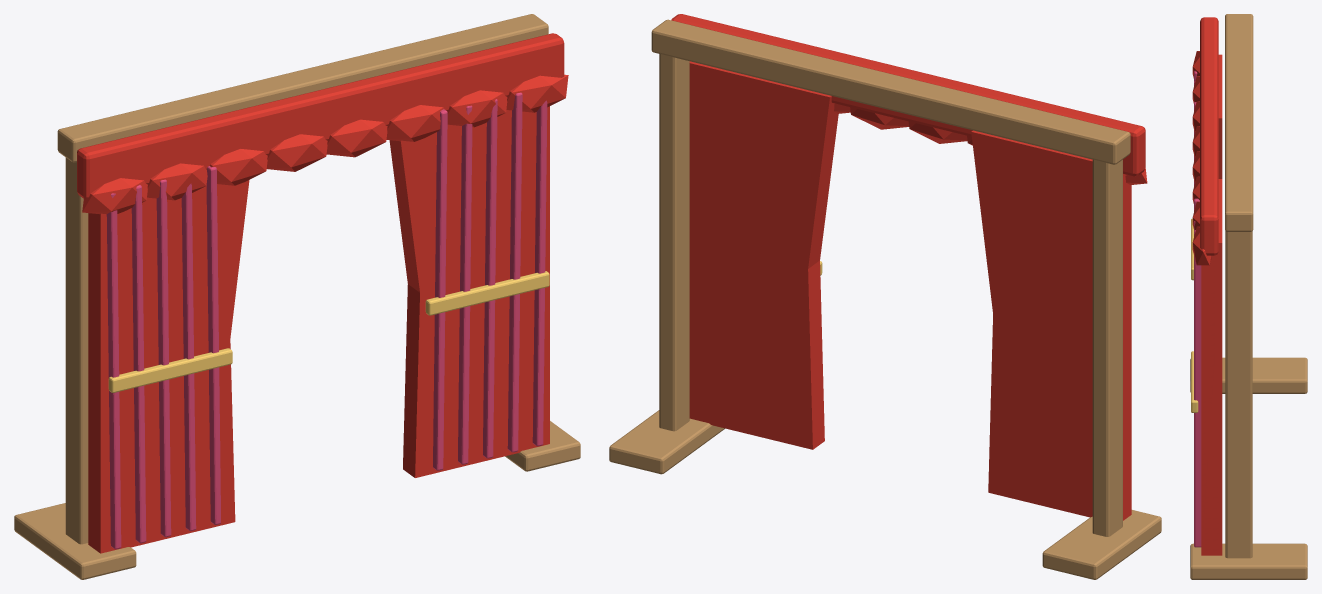
Rendered from S076_theater_curtain.glb.
The picture shows the model from 3 angles, left to right: view 1: azimuth 30°, elevation 25°; view 2: azimuth 150°, elevation 25°; view 3: azimuth 270°, elevation 25°; orthographic projection. The views are drawn at different scales.
Parts seen in each view (by area): view 1: foam_curtain_panel, foam_curtain_panel.001, valance_header, portal_header, curtain_frame_post, stage_portal_foot, curtain_fold.008, curtain_fold, curtain_fold.005, curtain_fold.002, curtain_fold.003, curtain_fold.007 (+15 smaller); view 2: foam_curtain_panel.001, foam_curtain_panel, portal_header, curtain_frame_post, curtain_frame_post.001, valance_header, stage_portal_foot, stage_portal_foot.001; view 3: curtain_frame_post.001, foam_curtain_panel.001, portal_header, valance_header, stage_portal_foot.001, stage_portal_foot, curtain_fold.009, foam_curtain_panel, valance_scallop.007, curtain_tie.001, valance_scallop.002, valance_scallop.003 (+1 smaller).
Part boxes in pixels (x1,y1,x2,y2): foam_curtain_panel: [88, 180, 249, 553]; foam_curtain_panel.001: [389, 106, 549, 477]; valance_header: [77, 33, 564, 199]; portal_header: [57, 14, 548, 162]; curtain_frame_post: [65, 157, 88, 544]; stage_portal_foot: [14, 503, 136, 579]; curtain_fold.008: [507, 92, 522, 452]; curtain_fold: [206, 166, 220, 524]; curtain_fold.005: [433, 109, 447, 470]; curtain_fold.002: [156, 179, 171, 537]; curtain_fold.003: [131, 185, 146, 543]; curtain_fold.007: [483, 99, 497, 458]; foam_curtain_panel.001: [689, 61, 838, 449]; foam_curtain_panel: [971, 130, 1131, 520]; portal_header: [651, 19, 1130, 164]; curtain_frame_post: [1092, 159, 1122, 536]; curtain_frame_post.001: [659, 54, 689, 431]; valance_header: [671, 14, 1145, 176]; stage_portal_foot: [1042, 510, 1161, 579]; stage_portal_foot.001: [609, 410, 724, 474]; curtain_frame_post.001: [1225, 231, 1252, 558]; foam_curtain_panel.001: [1201, 179, 1222, 555]; portal_header: [1225, 14, 1253, 231]; valance_header: [1200, 17, 1218, 255]; stage_portal_foot.001: [1190, 543, 1307, 579]; stage_portal_foot: [1190, 357, 1307, 393]; curtain_fold.009: [1194, 254, 1201, 547]; foam_curtain_panel: [1218, 54, 1222, 178]; valance_scallop.007: [1192, 226, 1211, 265]; curtain_tie.001: [1191, 351, 1198, 412]; valance_scallop.002: [1192, 101, 1199, 132]; valance_scallop.003: [1192, 126, 1199, 157].
Size of the model in its own units: 4.01 by 3.24 by 0.95.
